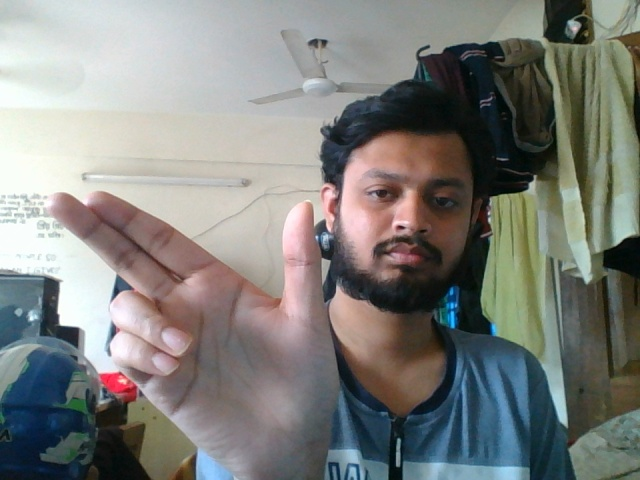jha: (41, 187, 344, 475)
